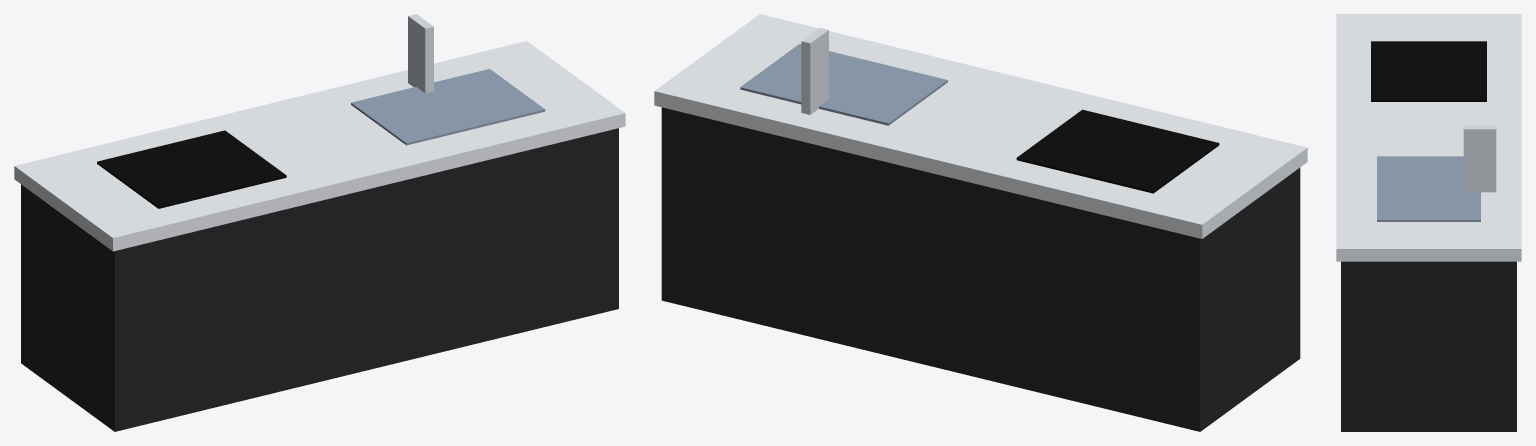
Rendered from kitchen_counter_island.glb.
3 views of the same model, side by side, from view 1: azimuth 30°, elevation 25°; view 2: azimuth 150°, elevation 25°; view 3: azimuth 270°, elevation 25° (orthographic). The views are drawn at different scales.
Visible parts, largest first — view 1: kitchen_counter_island; view 2: kitchen_counter_island; view 3: kitchen_counter_island.
Boxes of the visible parts, x1=… form: kitchen_counter_island: x1=14, y1=14, x2=625, y2=431; kitchen_counter_island: x1=654, y1=14, x2=1307, y2=431; kitchen_counter_island: x1=1336, y1=14, x2=1521, y2=431.
Size of the model in its own units: 2.4 by 1.18 by 0.8.
